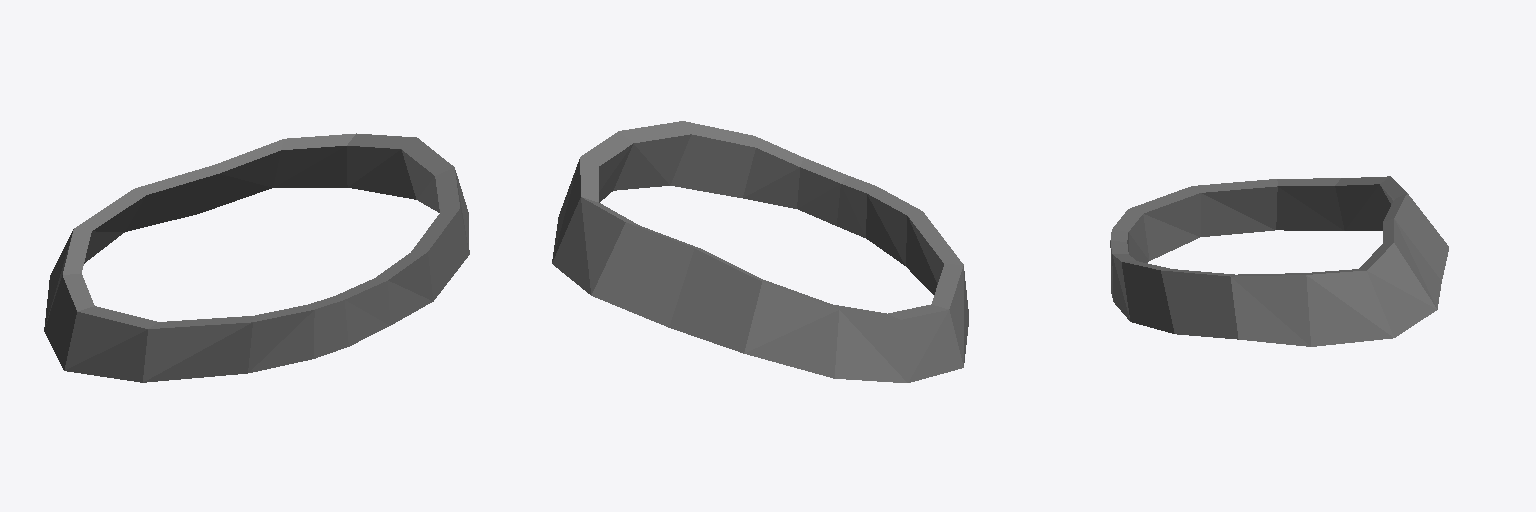
The model's file is irisBelt.obj.
The picture shows the model from 3 angles: view 1: azimuth 30°, elevation 25°; view 2: azimuth 150°, elevation 25°; view 3: azimuth 270°, elevation 25°; orthographic projection.
Parts seen in each view (by area): view 1: polySurface4; view 2: polySurface4; view 3: polySurface4.
Part boxes in pixels (left/top/right/bottom): polySurface4: left=44, top=133, right=469, bottom=382; polySurface4: left=552, top=121, right=968, bottom=382; polySurface4: left=1110, top=176, right=1448, bottom=346.
Bounding box in the file's own units: 49.91 × 16.29 × 37.8.